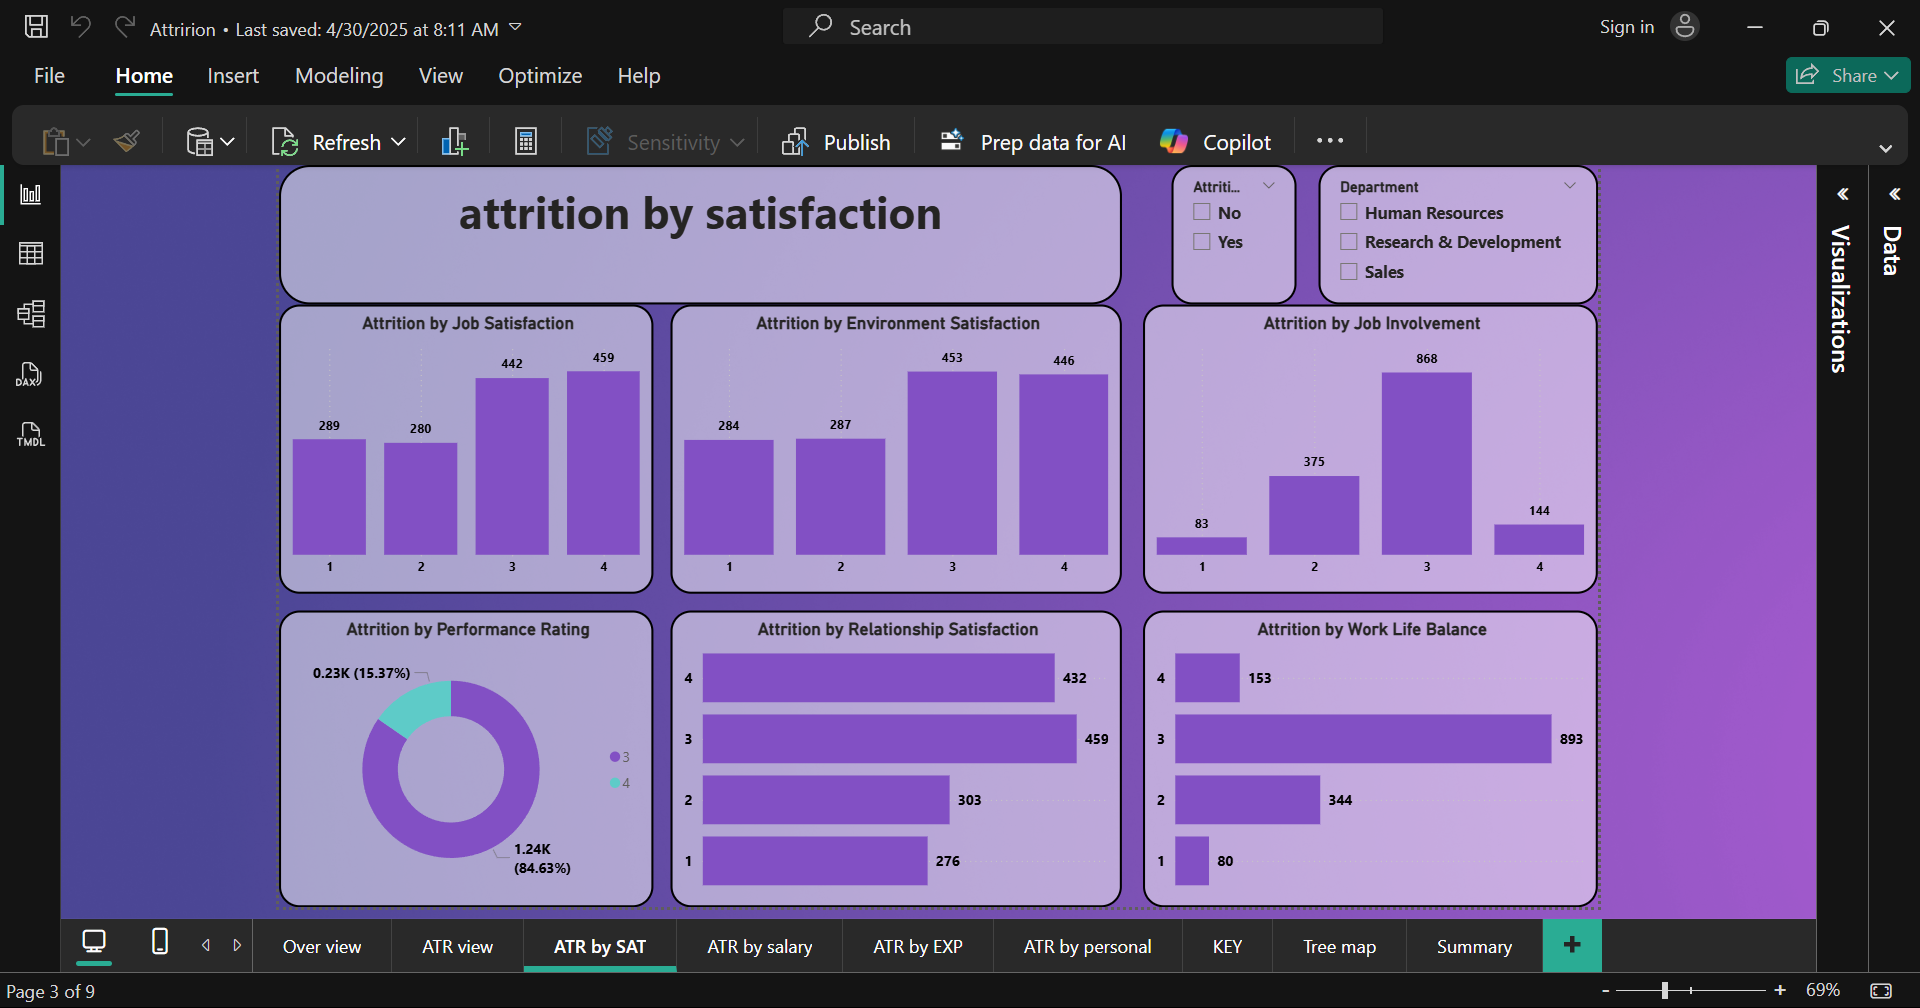

Layout of this report page (visuals, bound fields, positions):
{"tool":"powerbi","page":{"name":"ATR by SAT","canvas":[1280,720],"ordinal":2},"visuals":[{"type":"clusteredColumnChart","title":"Attrition by Job Involvement","fields":{"Y":["CountNonNull(clean data.Attrition)"],"Category":["clean data.JobInvolvement"]},"box":[838.4,135.6,441,280.5],"z":0},{"type":"clusteredColumnChart","title":"Attrition by Environment Satisfaction","fields":{"Y":["CountNonNull(clean data.Attrition)"],"Category":["clean data.EnvironmentSatisfaction"]},"box":[380.3,135.6,437.9,280.5],"z":1000},{"type":"clusteredColumnChart","title":"Attrition by Job Satisfaction","fields":{"Category":["clean data.JobSatisfaction"],"Y":["CountNonNull(clean data.Attrition)"]},"box":[0,135.6,363.1,280.5],"z":2000},{"type":"donutChart","title":"Attrition by Performance Rating","fields":{"Category":["clean data.PerformanceRating"],"Y":["CountNonNull(clean data.Attrition)"]},"box":[0,431.7,363.1,288.3],"z":3000},{"type":"clusteredBarChart","title":"Attrition by Relationship Satisfaction","fields":{"Category":["clean data.RelationshipSatisfaction"],"Y":["CountNonNull(clean data.Attrition)"]},"box":[380.3,431.7,437.9,288.3],"z":4000},{"type":"clusteredBarChart","title":"Attrition by Work Life Balance","fields":{"Category":["clean data.WorkLifeBalance"],"Y":["CountNonNull(clean data.Attrition)"]},"box":[838.4,431.7,441,288.3],"z":5000},{"type":"textbox","box":[0,0,818.2,135.6],"z":6000},{"type":"slicer","fields":{"Values":["clean data.Department"]},"box":[1008.3,0,271.2,135.6],"z":7000},{"type":"slicer","fields":{"Values":["clean data.Attrition"]},"box":[866.5,0,121.6,135.6],"z":8000}]}

Visuals, with their boxes on the page's 1280x720 design canvas (x1, y1, x2, y2). These are canvas units, not pixel positions in the 1920x1008 screenshot, which may show the page scaled, cropped or inside an application window:
"Attrition by Job Involvement" clusteredColumnChart: rect(838, 136, 1279, 416)
"Attrition by Environment Satisfaction" clusteredColumnChart: rect(380, 136, 818, 416)
"Attrition by Job Satisfaction" clusteredColumnChart: rect(0, 136, 363, 416)
"Attrition by Performance Rating" donutChart: rect(0, 432, 363, 720)
"Attrition by Relationship Satisfaction" clusteredBarChart: rect(380, 432, 818, 720)
"Attrition by Work Life Balance" clusteredBarChart: rect(838, 432, 1279, 720)
textbox: rect(0, 0, 818, 136)
slicer - clean data.Department: rect(1008, 0, 1280, 136)
slicer - clean data.Attrition: rect(866, 0, 988, 136)
